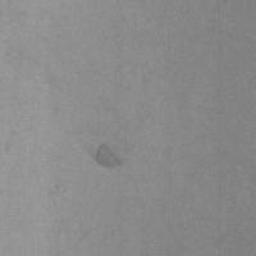Water spot: (88, 142, 134, 179)
